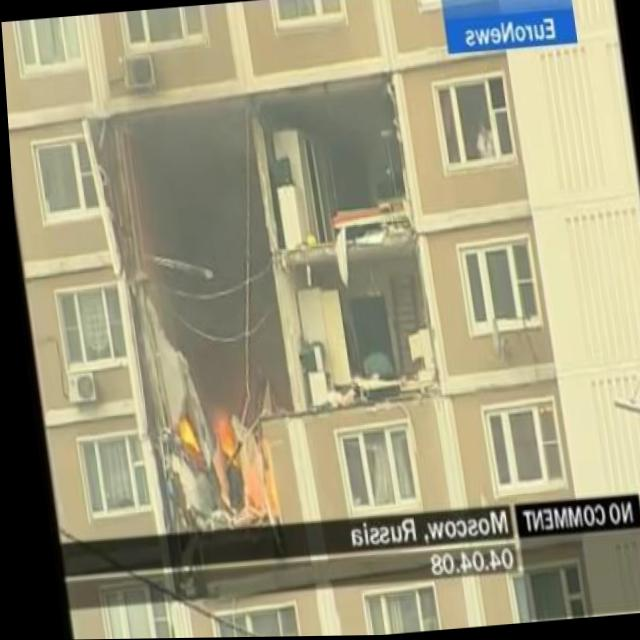fire: (200, 400, 240, 475), (167, 411, 192, 460)
